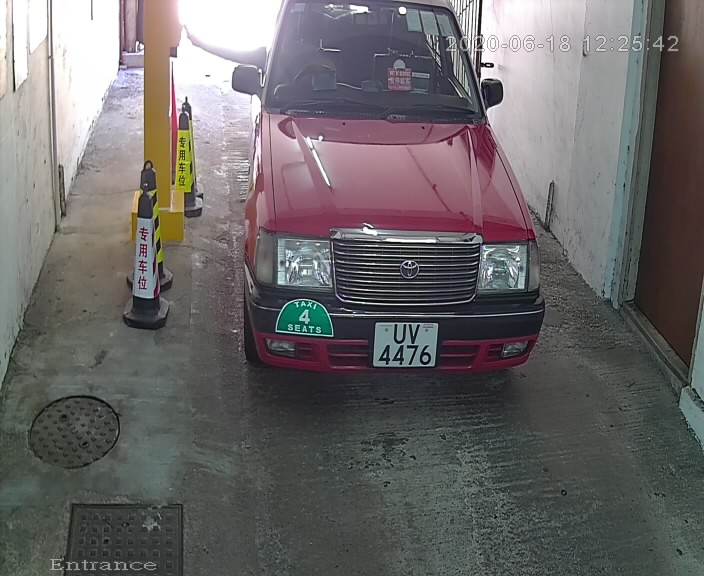taxi: (225, 2, 547, 399)
taxi_mark: (274, 297, 339, 343)
